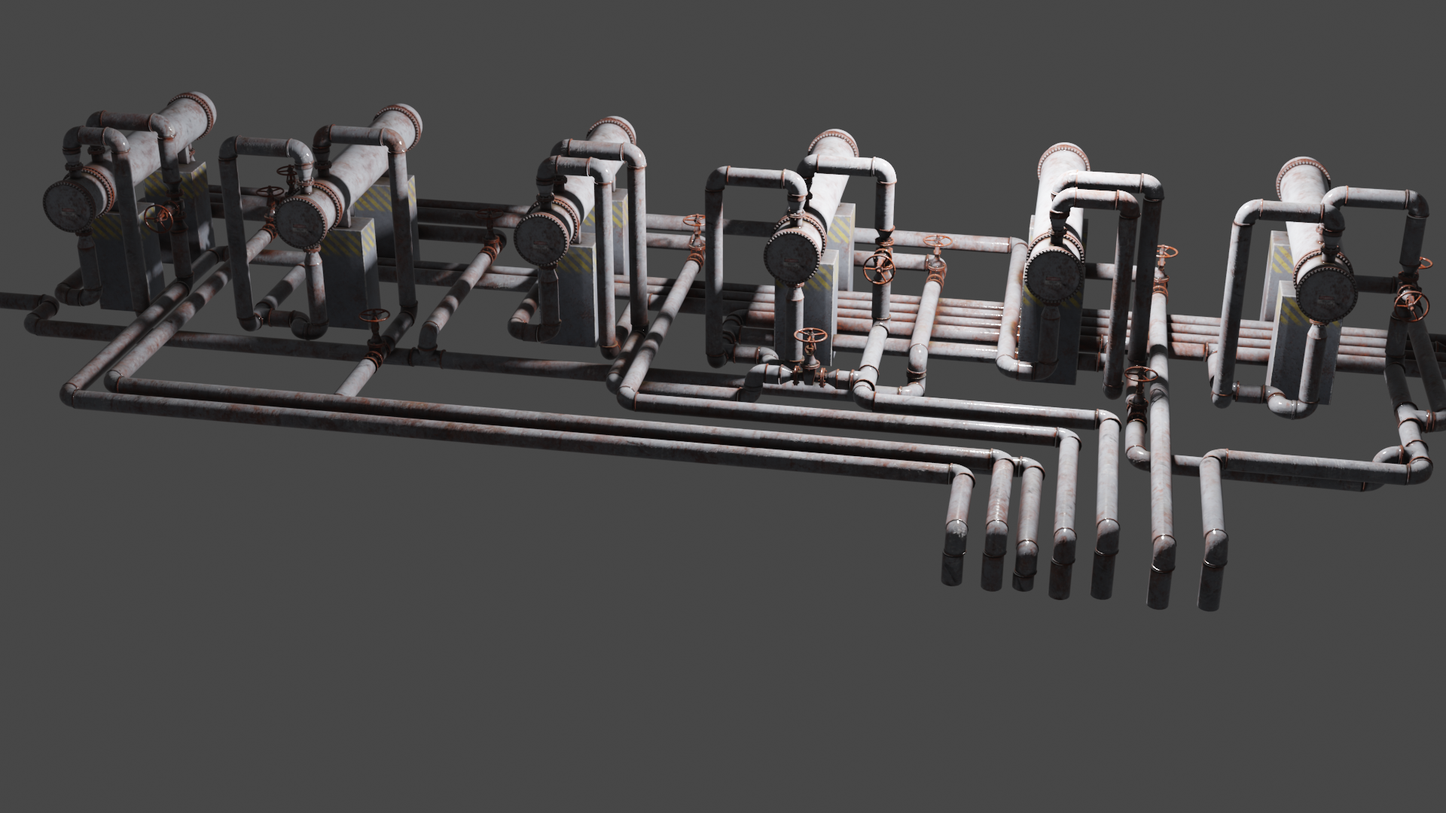HE_1: (41, 89, 215, 231)
HE_2: (277, 106, 423, 247)
HE_3: (514, 115, 641, 263)
HE_4: (766, 127, 860, 279)
HE_5: (1023, 142, 1090, 298)
HE_6: (1280, 153, 1359, 323)
